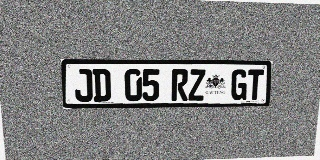0: (124, 69, 142, 101)
5: (142, 69, 159, 101)
D: (92, 69, 111, 102)
G: (230, 69, 248, 100)
J: (74, 69, 93, 102)
R: (171, 69, 188, 101)
T: (247, 69, 264, 100)
Z: (188, 69, 205, 101)
